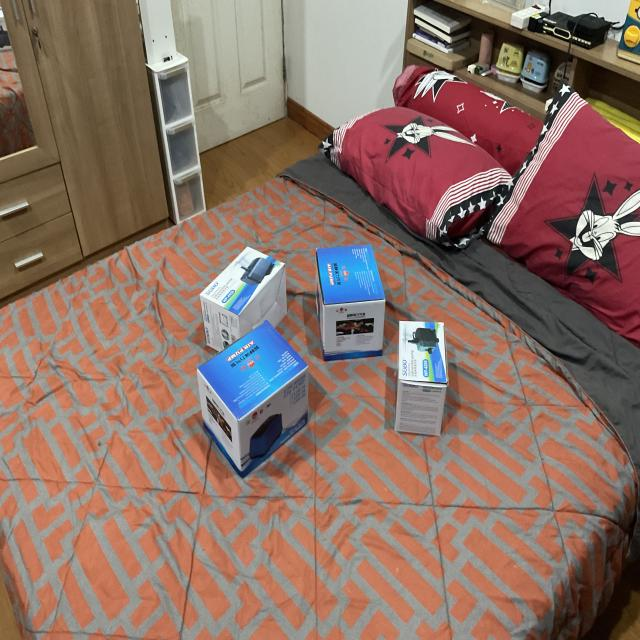SOBO_WP_4200: (188, 230, 292, 362), (386, 306, 452, 454)
YAMANO_LPP_20: (188, 321, 314, 478), (307, 237, 390, 371)
